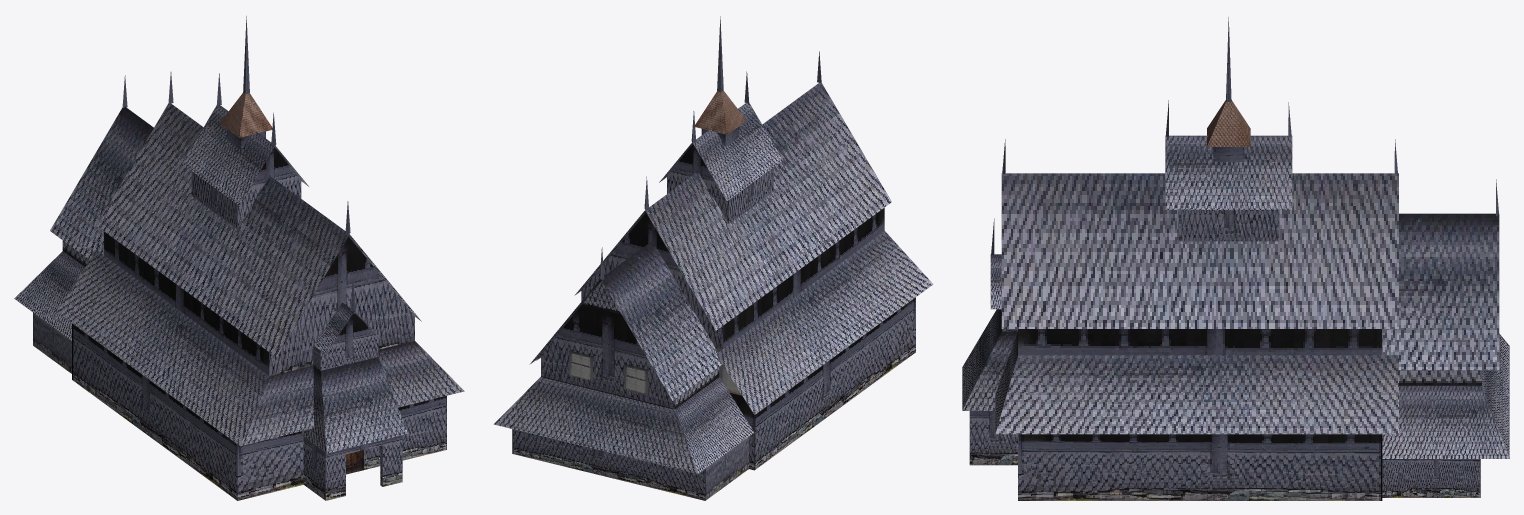
The model's file is EidsborgKirke.glb.
3 renders of one model, left to right at view 1: azimuth 30°, elevation 25°; view 2: azimuth 150°, elevation 25°; view 3: azimuth 270°, elevation 25°, orthographic. The views are drawn at different scales.
Parts seen in each view (by area): view 1: EidsBorgKirke; view 2: EidsBorgKirke; view 3: EidsBorgKirke.
Part boxes in pixels (x1,y1,x2,y2): EidsBorgKirke: [14, 16, 464, 500]; EidsBorgKirke: [493, 16, 933, 500]; EidsBorgKirke: [962, 17, 1509, 500].
Bounding box in the file's own units: 18.38 × 30.6 × 35.25.
Materials: 1 (1 with a texture image).
